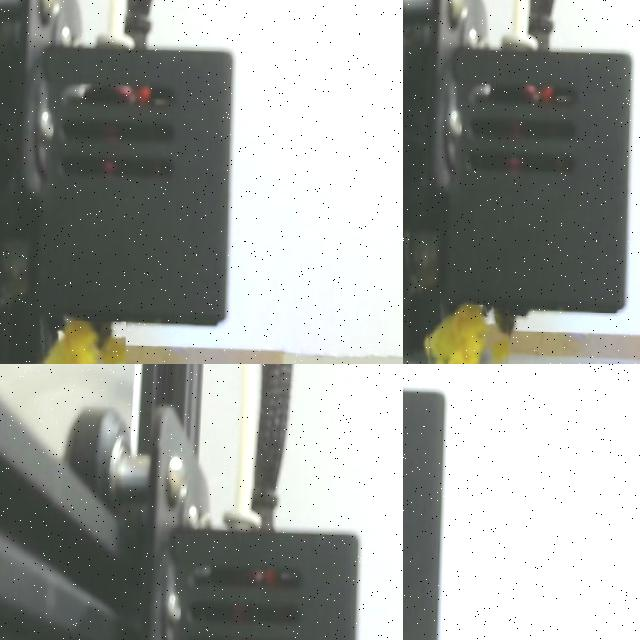spaghetti: (43, 320, 125, 364), (427, 304, 487, 364)
